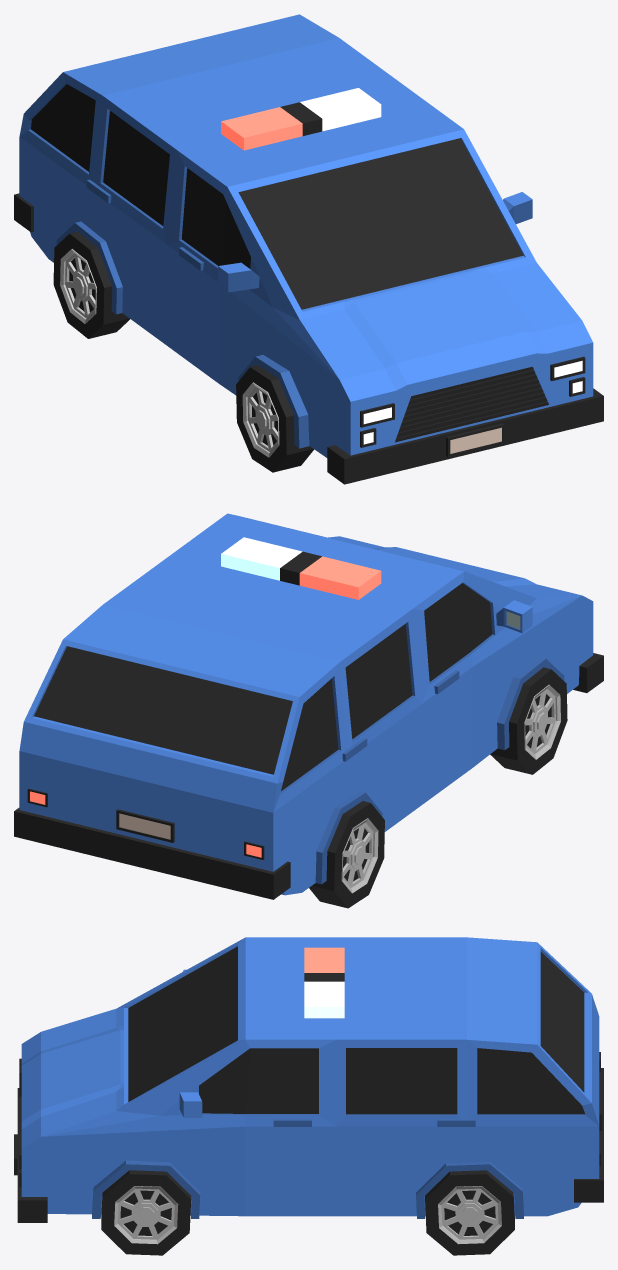
The model's file is Policia.fbx.
The picture shows the model from 3 angles, top to bottom: view 1: azimuth 30°, elevation 25°; view 2: azimuth 150°, elevation 25°; view 3: azimuth 270°, elevation 25°; orthographic projection. The views are drawn at different scales.
Visible parts, largest first — view 1: police; view 2: police; view 3: police.
Part boxes in pixels (left/top/right/bottom): police: left=14, top=14, right=603, bottom=484; police: left=14, top=513, right=603, bottom=908; police: left=14, top=937, right=603, bottom=1255.
Bounding box in the file's own units: 293 × 225 × 554.
